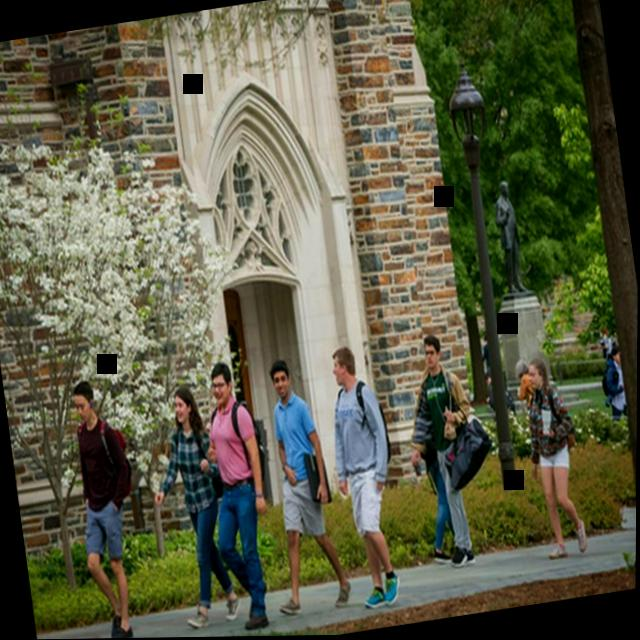NO-Mask: (325, 339, 366, 395), (206, 354, 242, 411), (267, 353, 301, 406), (70, 375, 103, 429), (170, 380, 204, 430), (418, 329, 449, 377), (524, 354, 553, 395)
